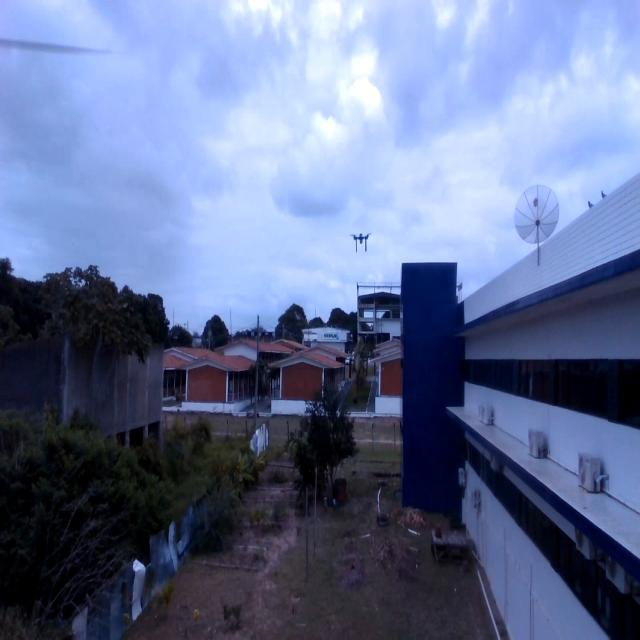-uav-: (346, 222, 378, 267)
